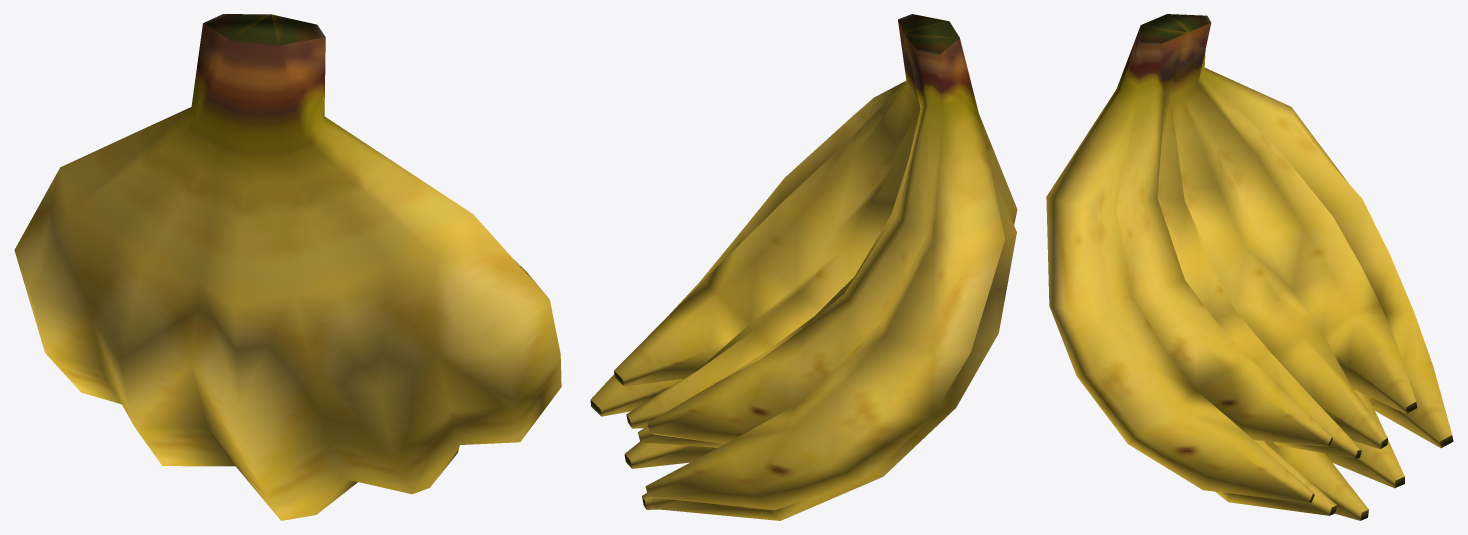
File: io_food_banana_big.obj
The picture shows the model from 3 angles, left to right: view 1: azimuth 30°, elevation 25°; view 2: azimuth 150°, elevation 25°; view 3: azimuth 270°, elevation 25°; orthographic projection. The views are drawn at different scales.
Visible parts, largest first — view 1: io_food_banana_big_0_io_food_banana_big_itemsShape; view 2: io_food_banana_big_0_io_food_banana_big_itemsShape; view 3: io_food_banana_big_0_io_food_banana_big_itemsShape.
Part boxes in pixels (box(x1,y1,x2,y2)): io_food_banana_big_0_io_food_banana_big_itemsShape: box(14, 14, 561, 520); io_food_banana_big_0_io_food_banana_big_itemsShape: box(590, 14, 1017, 520); io_food_banana_big_0_io_food_banana_big_itemsShape: box(1046, 14, 1453, 520).
Size of the model in its own units: 0.8456 by 0.9782 by 0.8456.
Materials: 1 (1 with a texture image).
